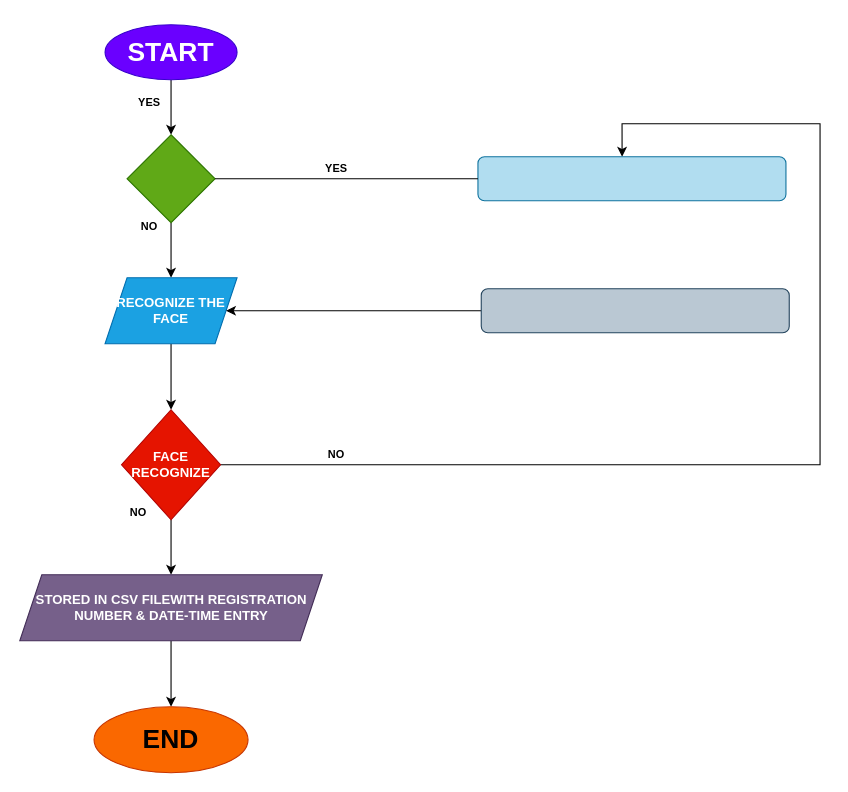
Some shapes in this 848 by 792 pixel diagram are drawn without their labels. Each missing label, with the box of its shape:
GIVE YOUR PHOTOGRAPH: (477, 156, 786, 201)
NEW USER: (126, 134, 215, 223)
STORE THE FACE DATA IN FOLDER ON YOUR NAME: (480, 288, 789, 333)
